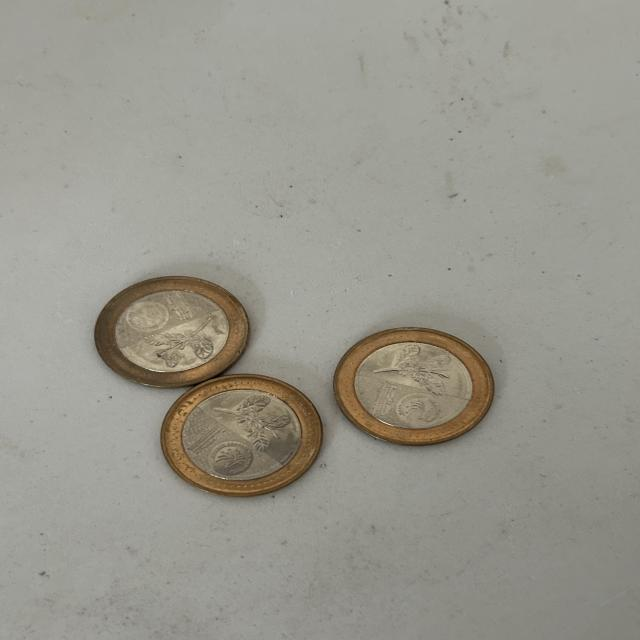20_New_Back: (366, 338, 452, 398), (136, 314, 224, 371), (209, 388, 287, 451)
